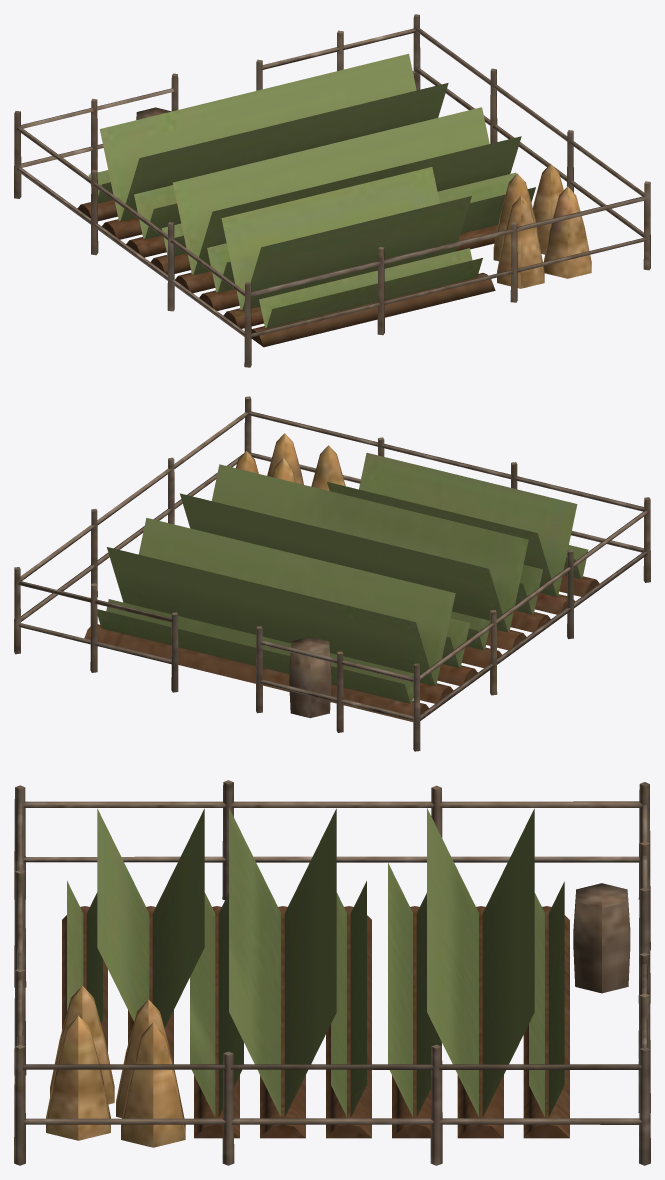
File: b_bigfield_far.glb
3 renders of one model, top to bottom at view 1: azimuth 30°, elevation 25°; view 2: azimuth 150°, elevation 25°; view 3: azimuth 270°, elevation 25°, orthographic. The views are drawn at different scales.
Parts seen in each view (by area): view 1: b_bigfield_far; view 2: b_bigfield_far; view 3: b_bigfield_far.
Part boxes in pixels (<box>): b_bigfield_far: <box>14,14,650,367</box>; b_bigfield_far: <box>14,396,650,751</box>; b_bigfield_far: <box>14,780,650,1165</box>.
Size of the model in its own units: 5.78 by 1.2 by 5.79.
Materials: 1 (1 with a texture image).
